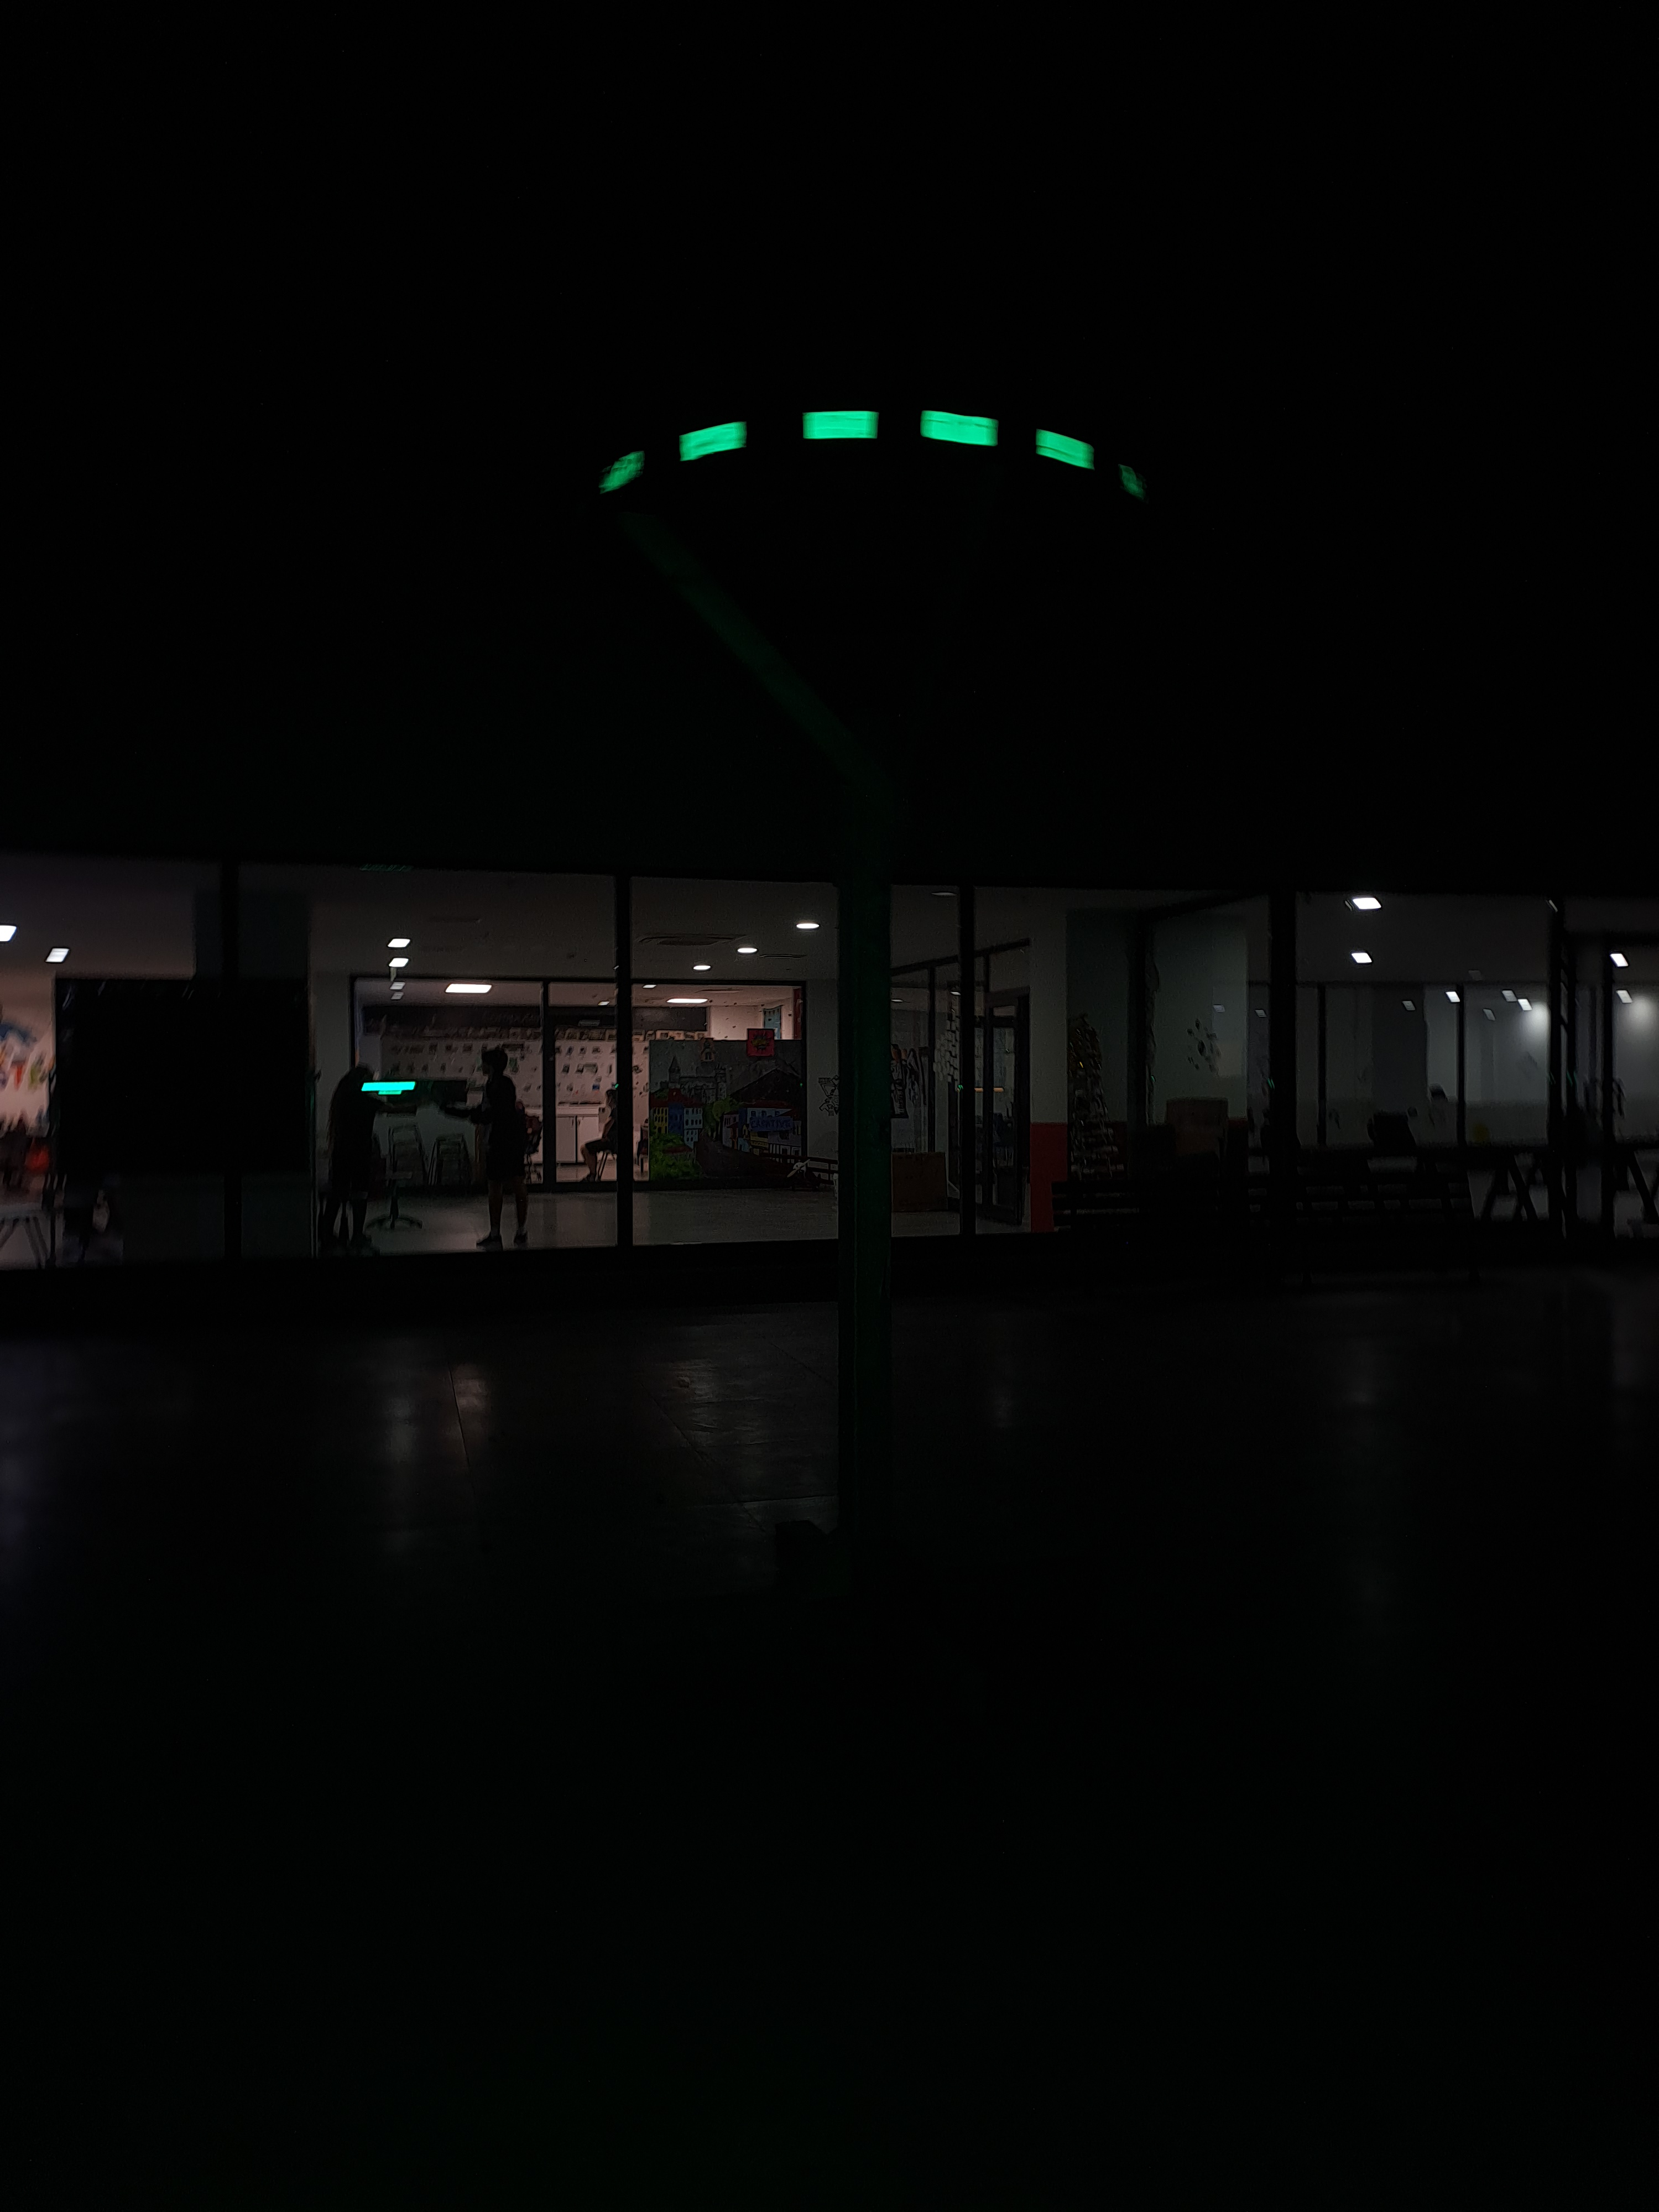hoop: (594, 404, 1148, 507)
